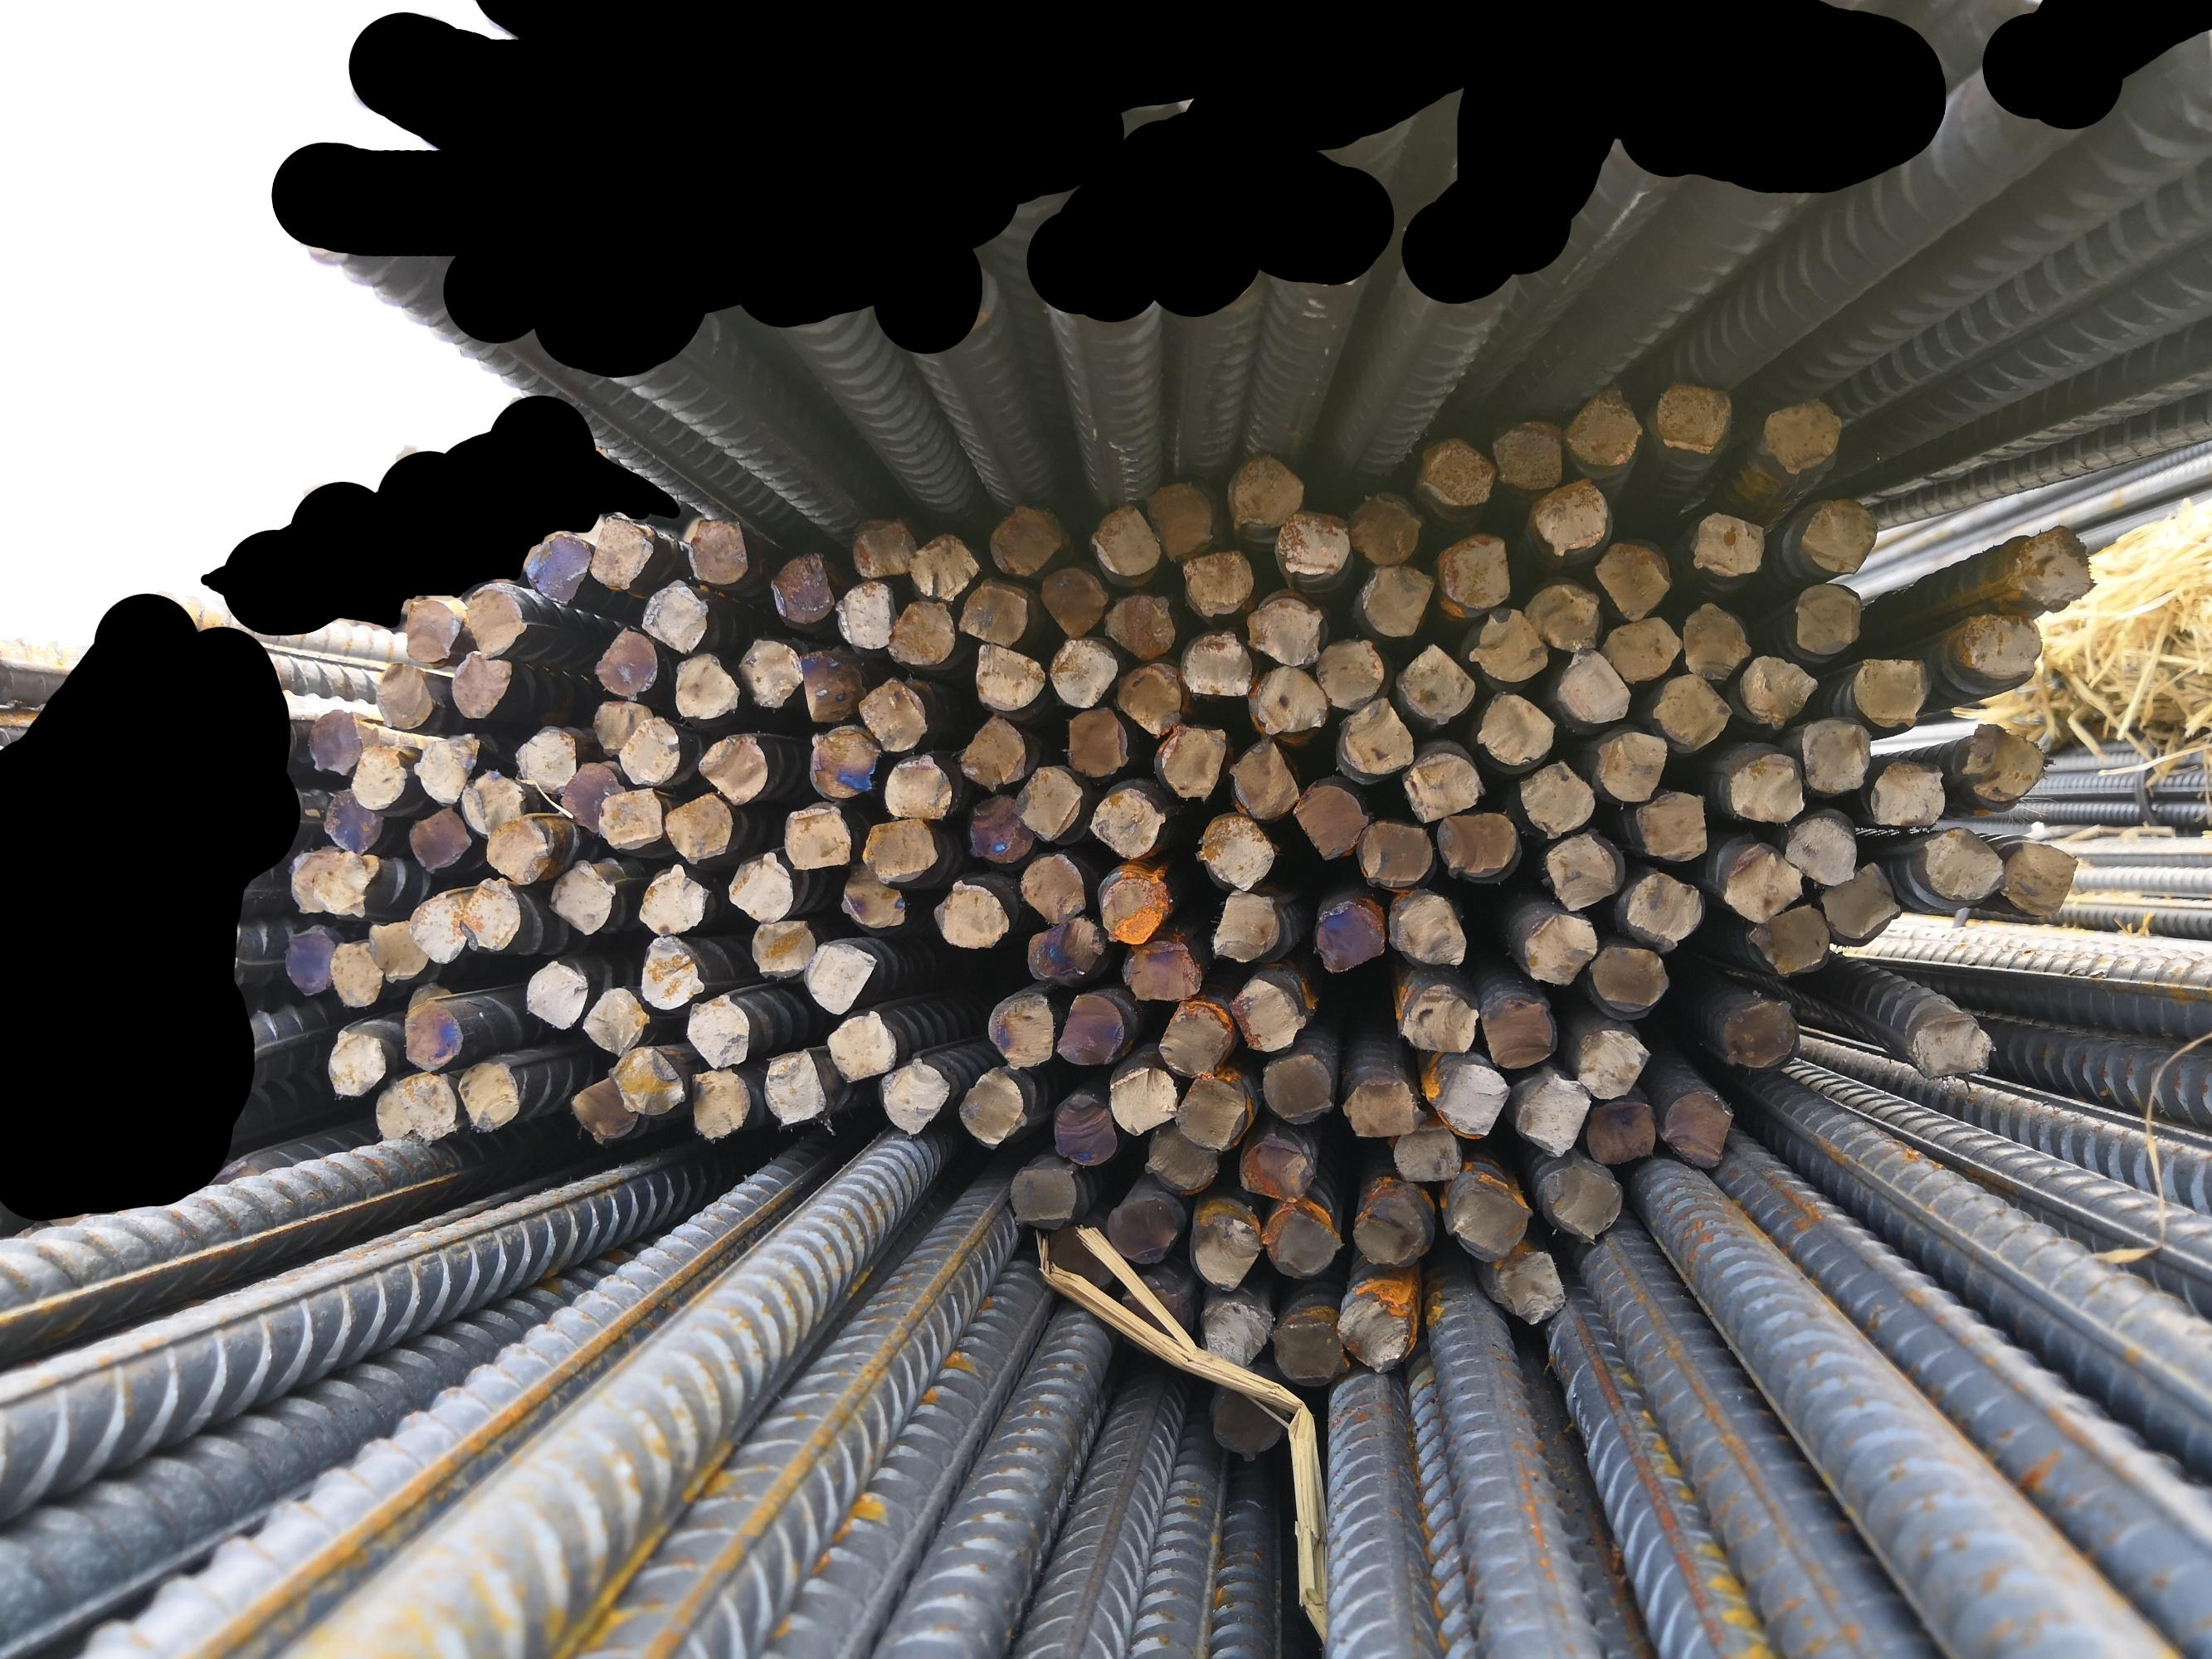bar: (1956, 716, 2053, 809), (1811, 850, 1902, 943), (2001, 521, 2095, 610), (1504, 753, 1597, 840), (1715, 838, 1804, 927), (1910, 823, 2006, 904), (1536, 1157, 1625, 1244), (1558, 380, 1645, 469), (1644, 671, 1734, 756), (1520, 474, 1612, 558), (1328, 690, 1415, 777), (1757, 392, 1846, 477), (1952, 606, 2045, 688), (1464, 690, 1558, 770), (1900, 1007, 1999, 1082), (1389, 640, 1476, 725), (1586, 537, 1670, 626), (1792, 491, 1881, 575), (1717, 751, 1809, 831), (1734, 647, 1820, 732), (1651, 371, 1736, 457), (1445, 1176, 1532, 1260), (1537, 831, 1625, 915), (1192, 810, 1279, 894), (1548, 641, 1635, 725), (1616, 864, 1706, 945), (1846, 650, 1937, 730), (1253, 1202, 1346, 1281), (1224, 732, 1299, 828), (1996, 835, 2081, 918), (1170, 1066, 1252, 1154), (1288, 775, 1368, 864), (1461, 606, 1553, 683), (1391, 981, 1487, 1054), (1081, 495, 1163, 580), (1586, 936, 1673, 1016), (1081, 784, 1170, 863), (1513, 1065, 1590, 1155), (955, 1060, 1030, 1152), (1227, 972, 1311, 1054), (1431, 1056, 1513, 1140), (1518, 906, 1600, 990), (1520, 575, 1605, 655), (1487, 1248, 1574, 1326), (1862, 753, 1949, 831), (875, 1047, 952, 1136), (1398, 748, 1487, 824), (1677, 596, 1754, 685), (1743, 903, 1835, 976), (1593, 613, 1686, 687), (797, 936, 879, 1018), (1227, 450, 1309, 532), (1344, 488, 1426, 570), (1354, 559, 1436, 641), (1245, 657, 1328, 737), (1792, 711, 1872, 795), (1659, 1086, 1738, 1171), (1473, 993, 1558, 1072), (1175, 622, 1253, 708), (1584, 728, 1673, 803), (804, 721, 885, 802), (988, 500, 1069, 582), (1208, 1377, 1288, 1459), (1269, 1309, 1351, 1389), (1150, 995, 1232, 1075), (1199, 884, 1281, 964), (1269, 504, 1351, 584), (1787, 577, 1867, 659), (1435, 526, 1513, 610), (854, 667, 931, 753), (858, 810, 943, 887), (1628, 788, 1713, 864), (1187, 1209, 1262, 1297), (1713, 997, 1801, 1072), (1431, 809, 1520, 882), (1332, 1293, 1412, 1373), (1309, 896, 1389, 976), (1006, 762, 1084, 843), (1415, 430, 1497, 509), (605, 1040, 689, 1117), (1386, 892, 1469, 969), (1173, 545, 1257, 622), (1238, 592, 1325, 666), (905, 525, 983, 605), (1109, 660, 1189, 739), (1487, 415, 1567, 493), (818, 1007, 899, 1084), (584, 509, 655, 596), (695, 728, 772, 809), (1055, 704, 1135, 781), (1032, 563, 1112, 640), (1569, 1026, 1651, 1101), (1154, 720, 1229, 802), (1351, 814, 1433, 889), (927, 878, 1011, 951), (1095, 589, 1178, 662), (453, 870, 525, 955), (957, 708, 1028, 793), (1232, 1131, 1318, 1202), (1686, 509, 1771, 580), (1105, 1190, 1182, 1269), (1351, 1190, 1428, 1269), (1044, 631, 1121, 709), (1309, 636, 1388, 713), (1257, 1053, 1337, 1127), (1339, 1073, 1429, 1140), (1053, 985, 1126, 1066), (950, 579, 1034, 650), (1046, 1086, 1117, 1169), (1021, 913, 1105, 985), (659, 788, 736, 864), (1140, 1121, 1217, 1197), (634, 861, 709, 939), (730, 633, 805, 711), (1103, 1061, 1182, 1136), (1011, 854, 1089, 929), (967, 638, 1048, 711), (680, 988, 751, 1070), (1142, 477, 1213, 559), (1117, 938, 1204, 1004), (720, 847, 795, 924), (1004, 1157, 1081, 1232), (1781, 812, 1856, 889), (793, 645, 866, 723), (985, 990, 1055, 1072), (1196, 1295, 1271, 1370), (765, 549, 838, 626), (1093, 870, 1166, 946), (523, 528, 594, 606), (758, 1047, 830, 1126), (577, 978, 647, 1058), (682, 1063, 751, 1143), (589, 622, 659, 702), (411, 730, 485, 805), (542, 859, 614, 936), (636, 932, 706, 1011), (521, 951, 589, 1032), (1117, 1279, 1184, 1361), (396, 999, 467, 1073), (612, 714, 683, 789), (668, 650, 743, 721), (451, 1060, 521, 1136), (446, 645, 516, 721), (462, 582, 528, 662), (830, 573, 896, 653), (390, 1068, 462, 1141), (567, 1070, 640, 1141), (879, 751, 952, 823), (1044, 1223, 1116, 1297), (680, 509, 750, 584), (879, 598, 957, 664), (312, 849, 383, 920), (361, 910, 431, 983), (837, 861, 910, 931), (964, 795, 1037, 864), (1583, 1096, 1656, 1166), (319, 1025, 387, 1100), (458, 763, 525, 840), (776, 805, 852, 871), (366, 659, 436, 730), (403, 800, 472, 871), (640, 584, 711, 653), (553, 762, 622, 833), (485, 812, 551, 887), (511, 723, 579, 795), (744, 913, 818, 979), (591, 786, 666, 850), (845, 514, 919, 579), (404, 892, 465, 967), (1389, 1122, 1464, 1183), (324, 934, 382, 1012), (321, 784, 387, 852), (345, 744, 410, 812), (281, 922, 335, 1000), (305, 706, 364, 774), (401, 596, 460, 664), (587, 697, 654, 756), (286, 845, 336, 915), (371, 1080, 415, 1140), (404, 978, 455, 1019)
